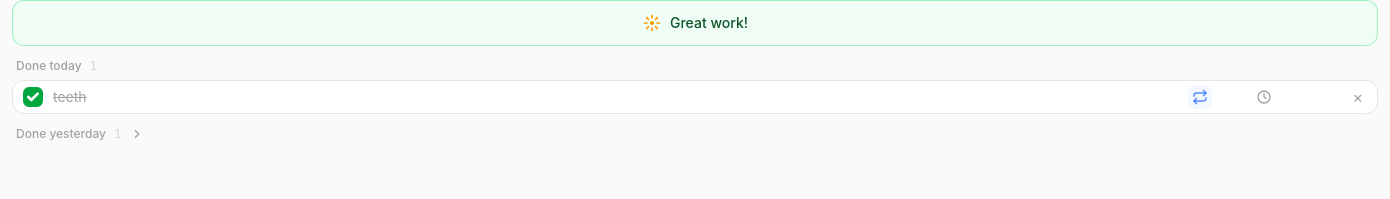
days a repeating task was done on before (TASK-75) › keeps the habit’s own row for today, and its days before under their spans
Click the button "Done yesterday 1" at (80, 134), box top-left (16, 120), bottom-right (144, 148)
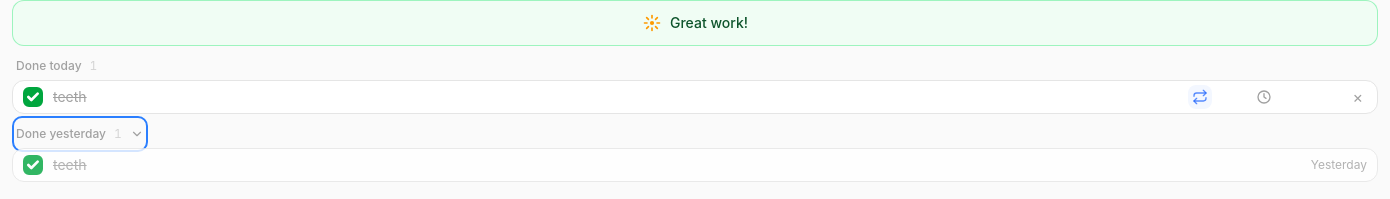
Now the button named "\"teeth\", done yesterday" is shown, box top-left (13, 149), bottom-right (1377, 181)
